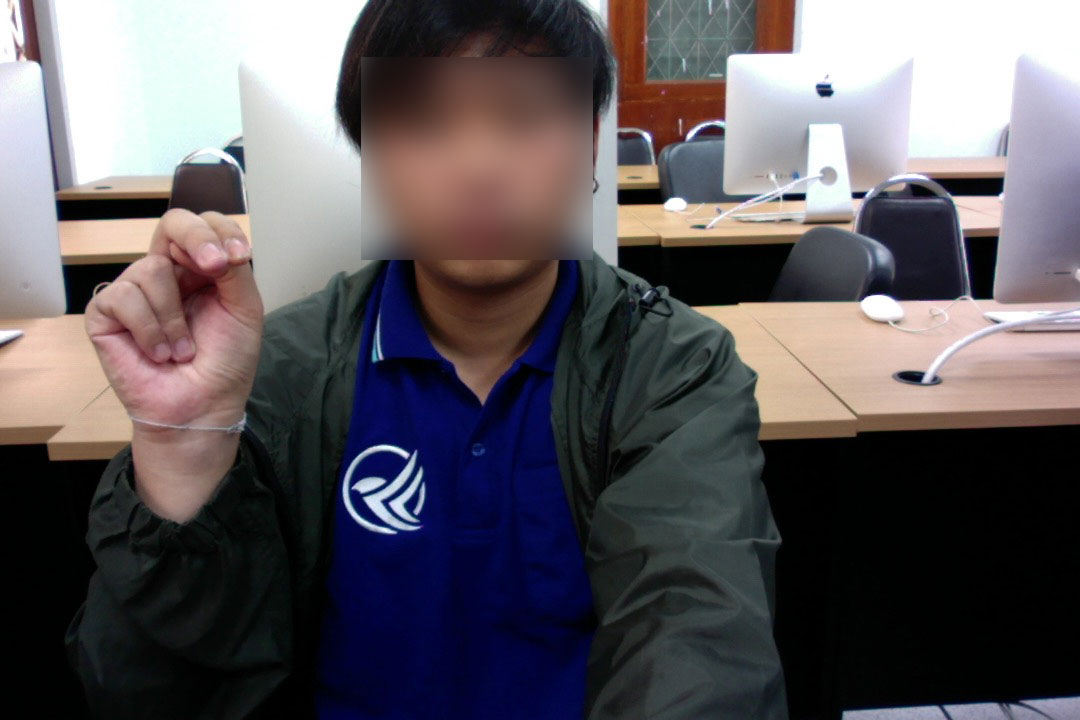nor: (73, 196, 266, 487)
